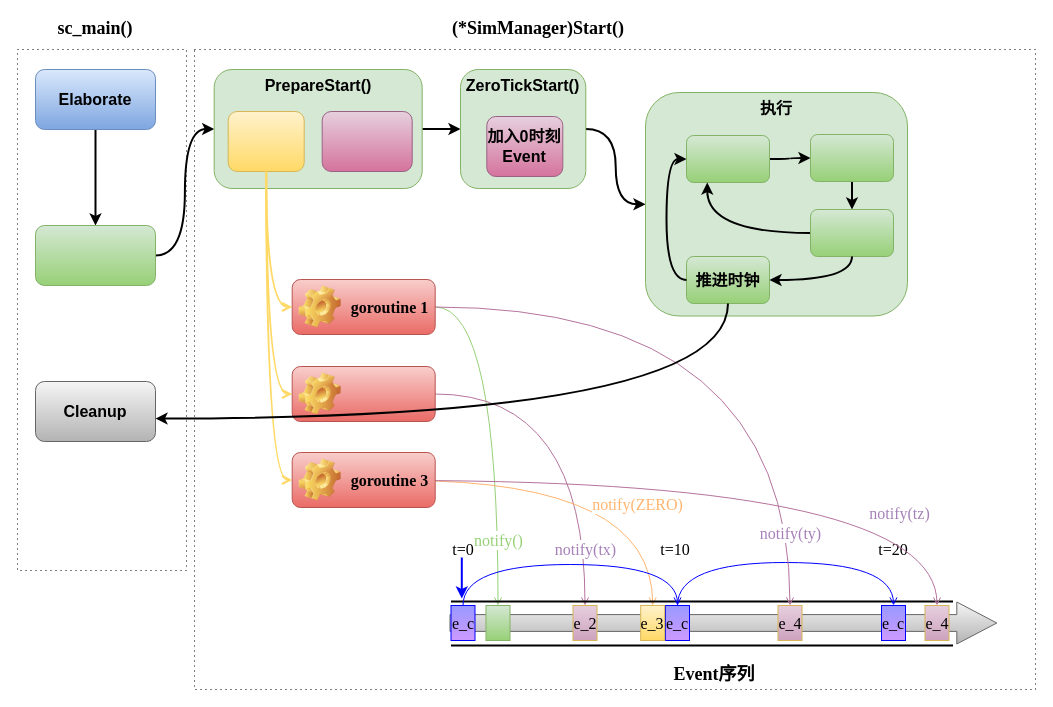
The diagram is 1053 pixels wide and 707 high, and some of its shapes have lost their labels. Here are the shapes that lost their labels. From the top down, the centre of each, then its label:
At point 265,141: "methods拆分".
At point 366,141: "创建Event 序列".
At point 728,158: "遍历Event序列".
At point 852,158: "触发Event".
At point 852,232: "更新Event序列".
At point 95,255: "sc_start()".
At point 363,394: "goroutine 2".
At point 497,622: "e_1".
